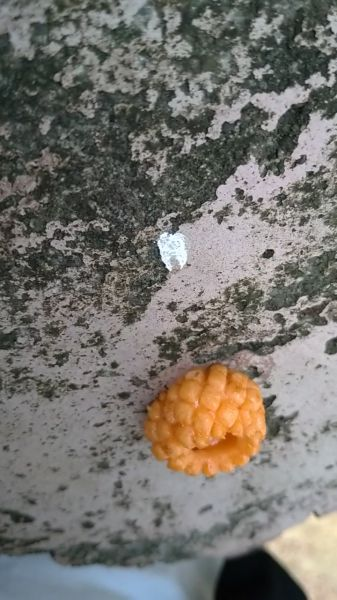eggs: (139, 354, 273, 479)
